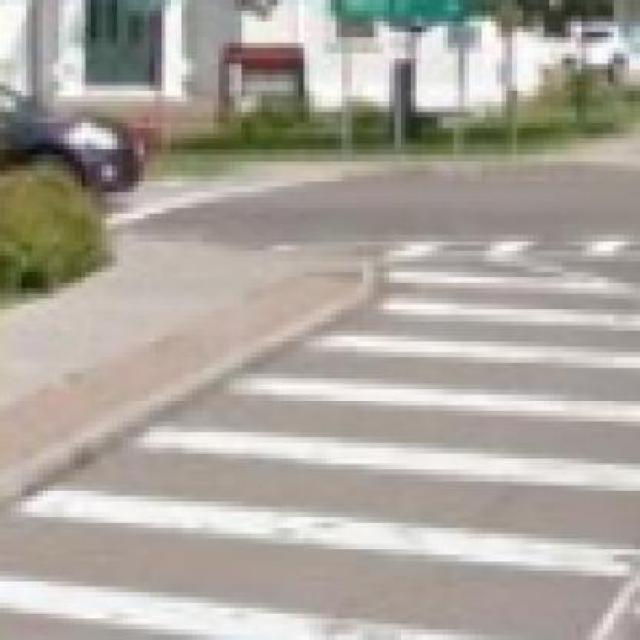crosswalk: (3, 251, 640, 640)
